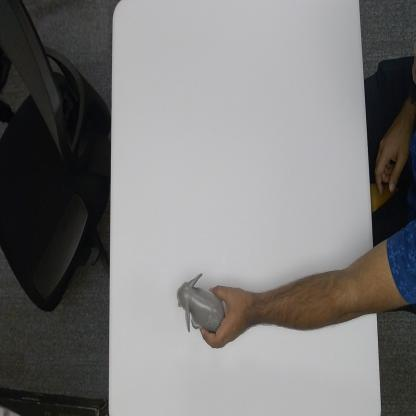Arm: (255, 248, 375, 332)
Elephant: (174, 270, 227, 335)
Hand: (200, 286, 254, 349)
